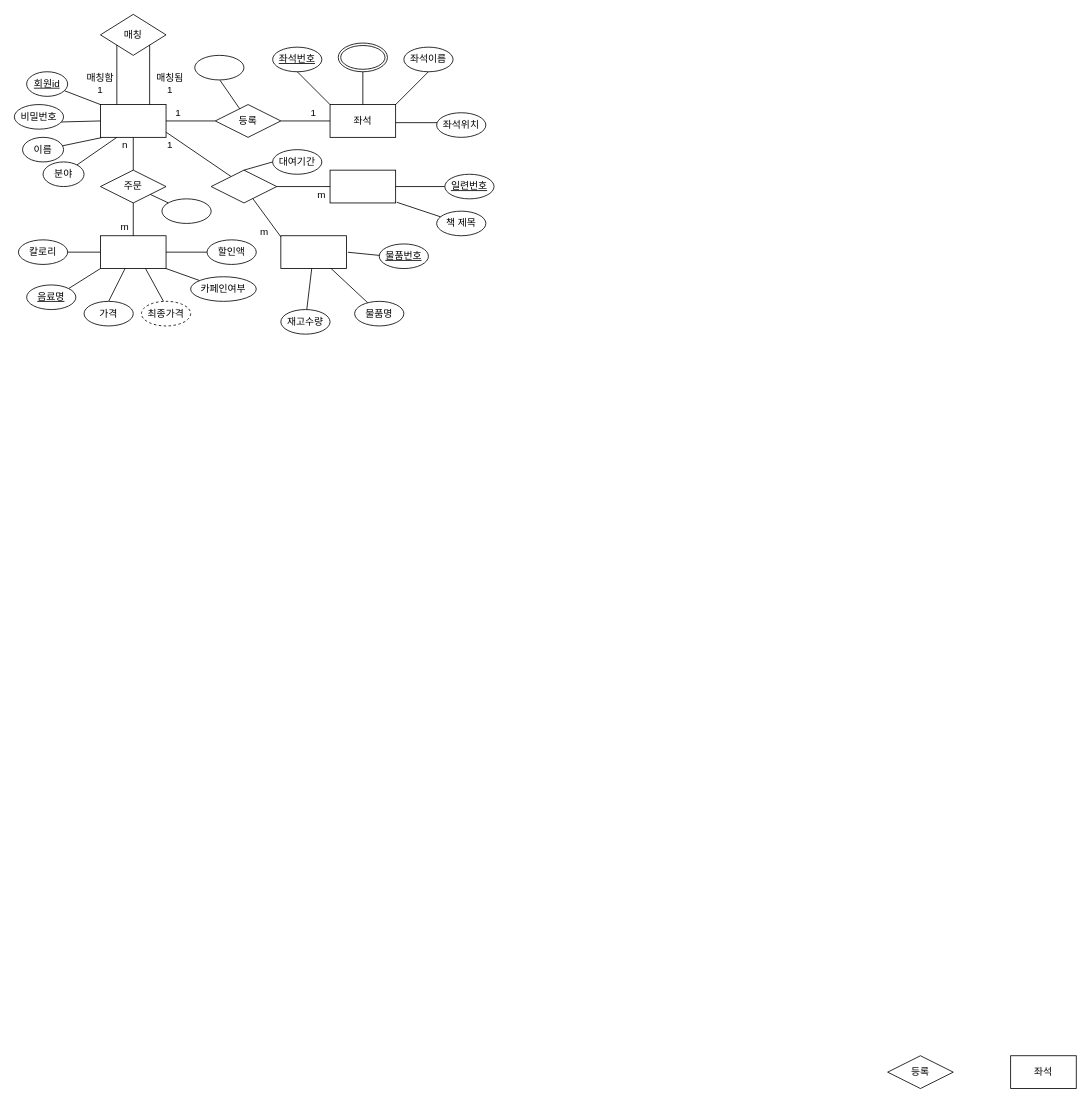
Some shapes in this 1091 by 1103 pixel diagram are drawn without their labels. Each missing label, with the centre of its shape:
"대여" belongs at [243,186].
"도서" belongs at [362,186].
"등록기간" belongs at [219,67].
"물품" belongs at [313,252].
"좌석타입" belongs at [362,57].
"주문번호" belongs at [186,210].
"카페" belongs at [133,252].
"회원" belongs at [133,120].
